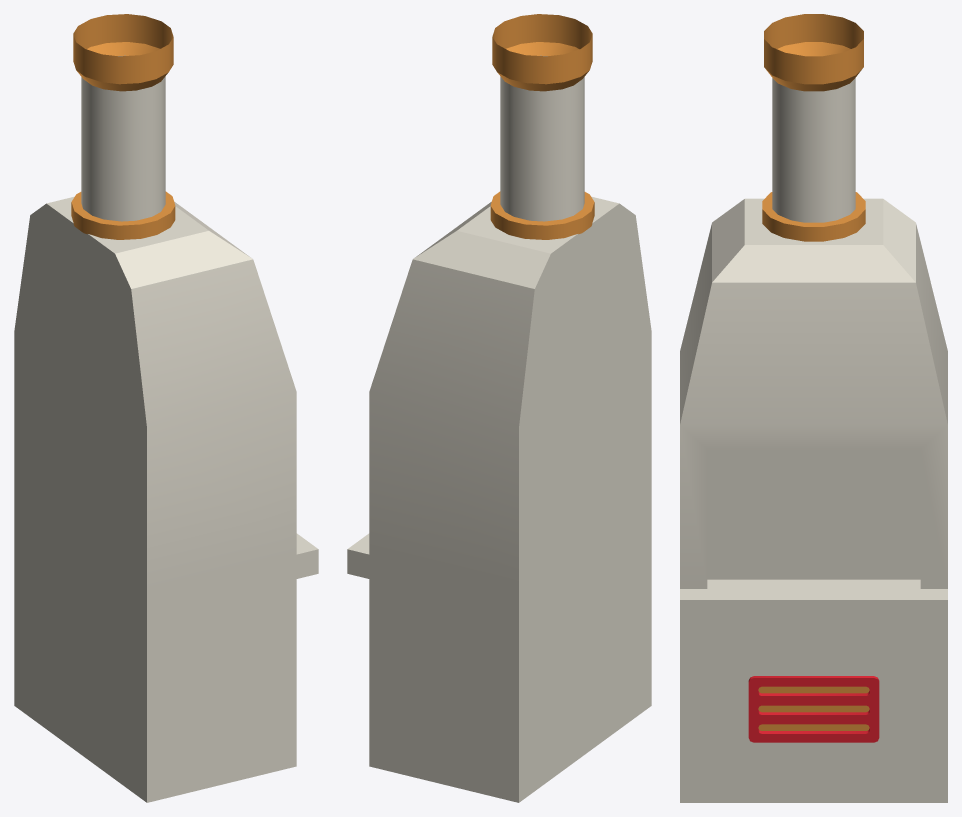
File: Furnace.fbx
3 renders of one model, left to right at view 1: azimuth 30°, elevation 25°; view 2: azimuth 150°, elevation 25°; view 3: azimuth 270°, elevation 25°, orthographic.
Visible parts, largest first — view 1: Furnace; view 2: Furnace; view 3: Furnace.
Boxes of the visible parts, x1=… form: Furnace: x1=14, y1=14, x2=318, y2=802; Furnace: x1=347, y1=14, x2=651, y2=802; Furnace: x1=680, y1=14, x2=947, y2=802.
Bounding box in the file's own units: 38.84 × 152 × 51.52.
